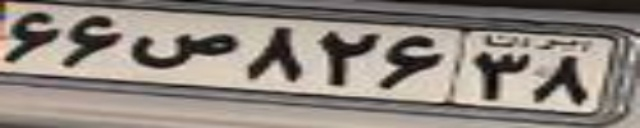2: (317, 30, 378, 87)
3: (471, 50, 530, 101)
6: (378, 33, 445, 90), (62, 11, 122, 68), (5, 11, 57, 65)
8: (530, 56, 592, 105), (247, 26, 302, 81)
saat: (128, 31, 239, 70)
